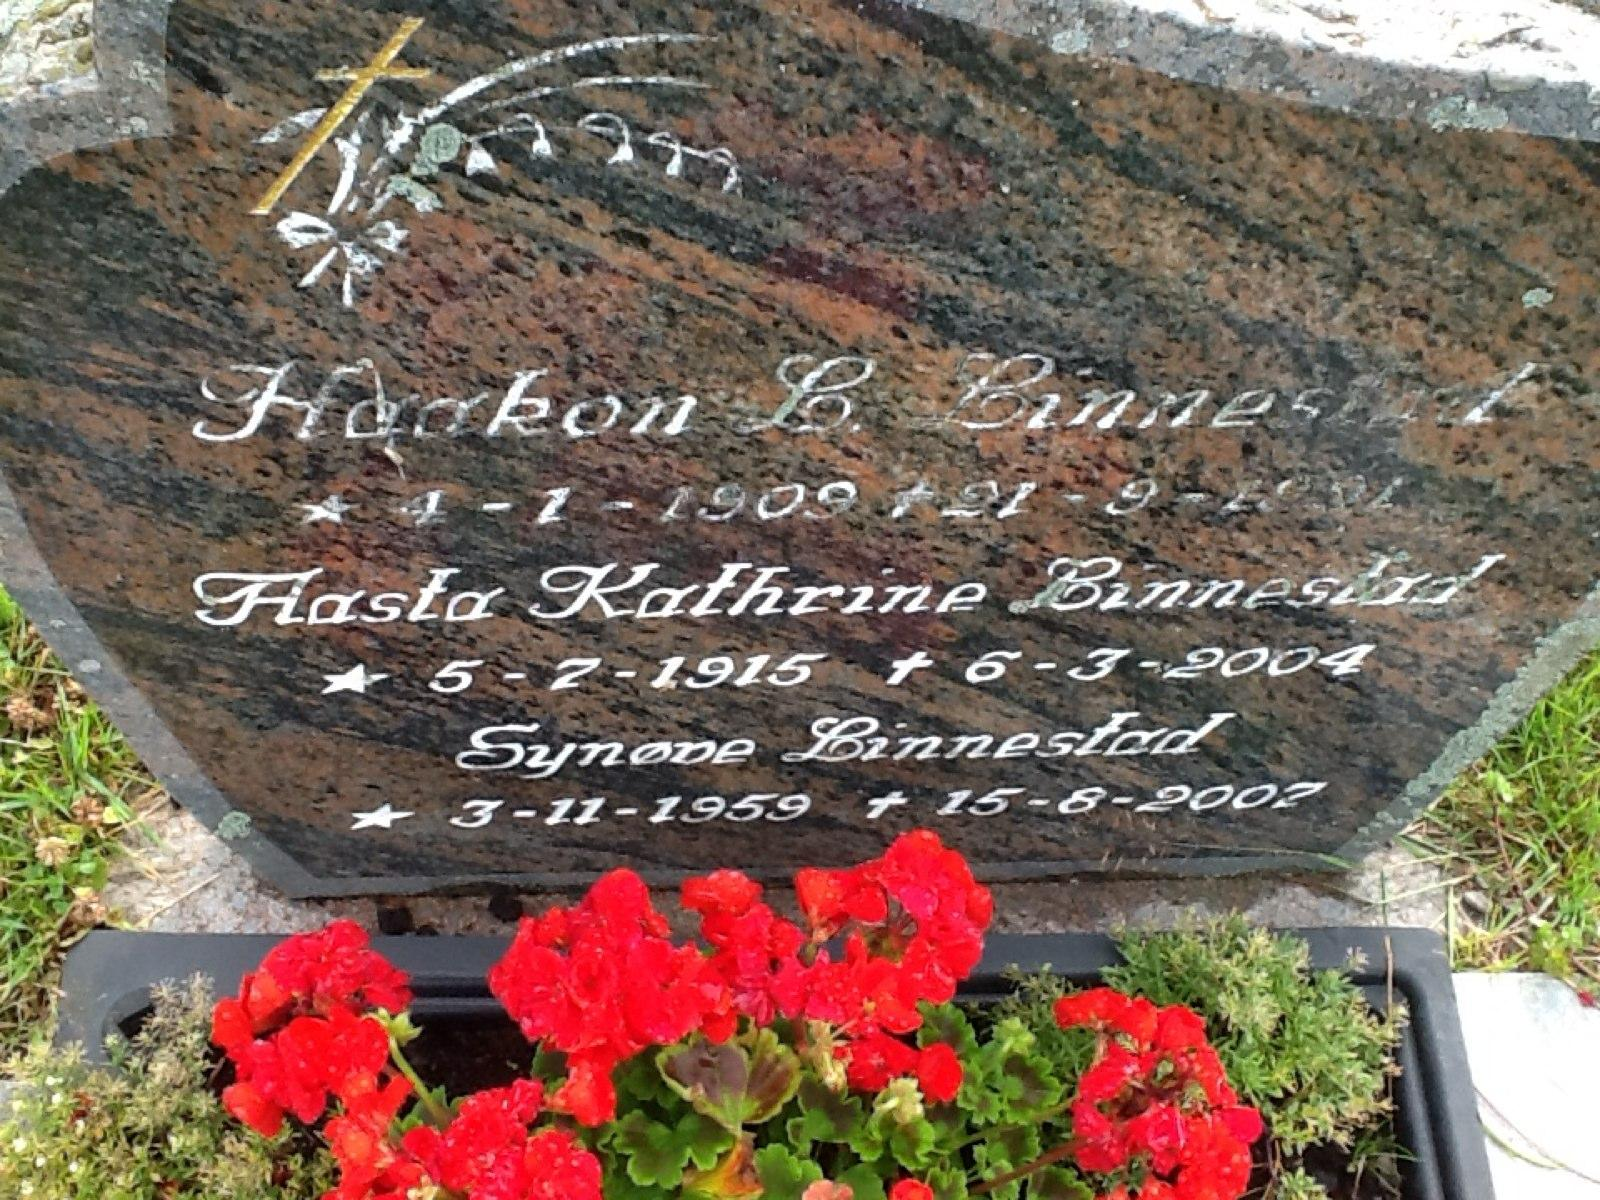upright: (1, 0, 1599, 996)
